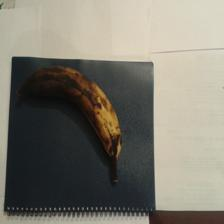Banana Rotten: (39, 61, 132, 181)
